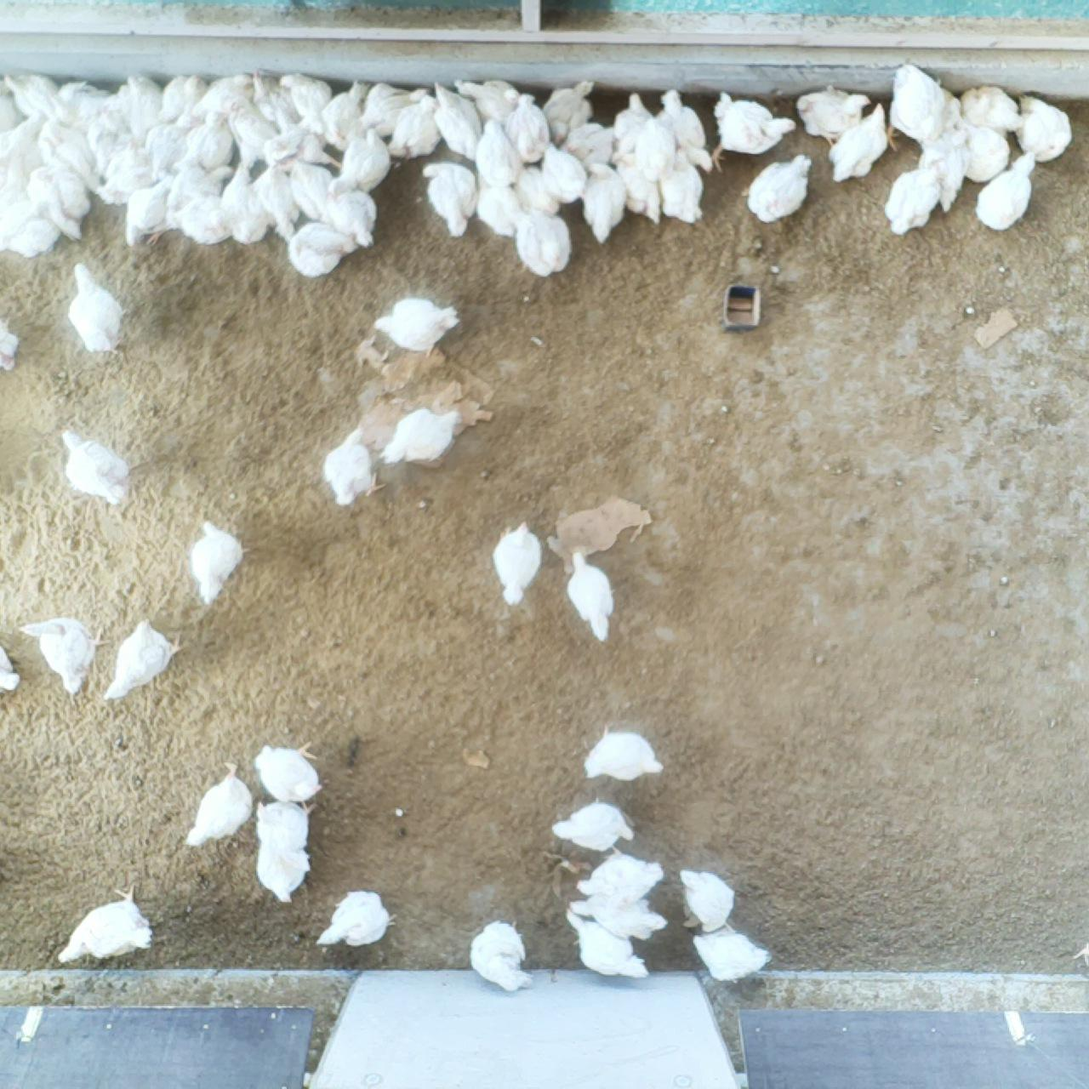chicken: (54, 883, 155, 965), (146, 163, 236, 244), (710, 90, 795, 175), (249, 796, 314, 906), (103, 617, 183, 704), (20, 616, 108, 695), (561, 906, 650, 981), (183, 759, 255, 851), (68, 261, 133, 356), (186, 518, 252, 607), (371, 296, 461, 361), (58, 425, 130, 506), (973, 149, 1042, 233), (828, 103, 899, 183), (37, 116, 106, 197), (320, 425, 388, 507), (25, 161, 92, 243), (885, 62, 946, 150), (563, 892, 669, 941), (747, 152, 818, 224), (314, 888, 399, 948), (379, 406, 462, 467), (549, 795, 637, 852), (573, 848, 667, 901), (915, 126, 971, 214), (565, 546, 615, 643), (792, 89, 872, 148), (488, 519, 542, 606), (583, 724, 665, 781), (288, 215, 361, 279), (470, 918, 531, 994), (691, 926, 770, 983), (422, 159, 478, 237), (257, 741, 325, 805), (469, 168, 529, 240), (431, 80, 483, 162), (386, 93, 447, 162), (1012, 92, 1073, 161), (331, 128, 388, 200), (886, 163, 941, 237), (359, 81, 429, 139), (946, 121, 1011, 182), (678, 867, 737, 934), (541, 78, 600, 145), (514, 208, 572, 276), (654, 150, 705, 225), (251, 162, 301, 238), (174, 108, 237, 168), (470, 116, 523, 187), (609, 154, 662, 225), (318, 183, 375, 249), (185, 74, 263, 122), (583, 161, 628, 244), (265, 123, 344, 170), (124, 174, 177, 244), (320, 78, 370, 151), (224, 101, 278, 166), (286, 153, 336, 223), (224, 165, 268, 244), (504, 92, 552, 163), (956, 84, 1022, 135), (609, 89, 654, 163), (457, 77, 524, 126), (552, 124, 613, 177), (141, 114, 195, 173), (102, 137, 150, 203), (539, 141, 586, 207), (276, 67, 333, 121), (82, 107, 127, 175), (253, 68, 298, 136), (659, 88, 705, 154), (511, 160, 560, 221), (55, 74, 109, 129), (637, 117, 678, 185), (177, 195, 232, 244), (119, 76, 162, 138), (662, 124, 714, 173), (0, 118, 41, 180), (6, 71, 60, 118), (160, 77, 209, 123), (9, 217, 60, 258), (0, 199, 39, 252), (0, 157, 27, 228), (0, 309, 22, 375), (0, 634, 21, 697), (0, 87, 21, 137)
